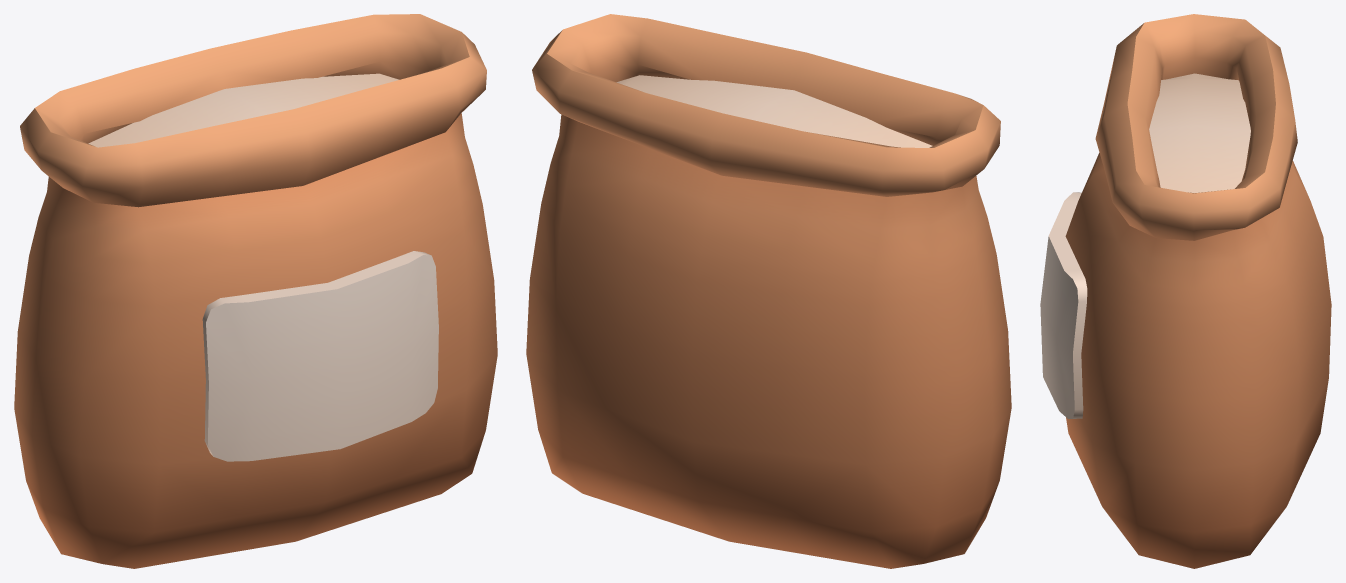
The model's file is flour-sack-open.glb.
The picture shows the model from 3 angles, left to right: view 1: azimuth 30°, elevation 25°; view 2: azimuth 150°, elevation 25°; view 3: azimuth 270°, elevation 25°; orthographic projection. The views are drawn at different scales.
Parts seen in each view (by area): view 1: flour_sack_open; view 2: flour_sack_open; view 3: flour_sack_open.
Boxes of the visible parts, x1=… form: flour_sack_open: x1=14, y1=14, x2=497, y2=568; flour_sack_open: x1=526, y1=14, x2=1011, y2=568; flour_sack_open: x1=1040, y1=14, x2=1331, y2=568.
Bounding box in the file's own units: 0.5338 × 0.5003 × 0.3359.
Materials: 1 (1 with a texture image).
